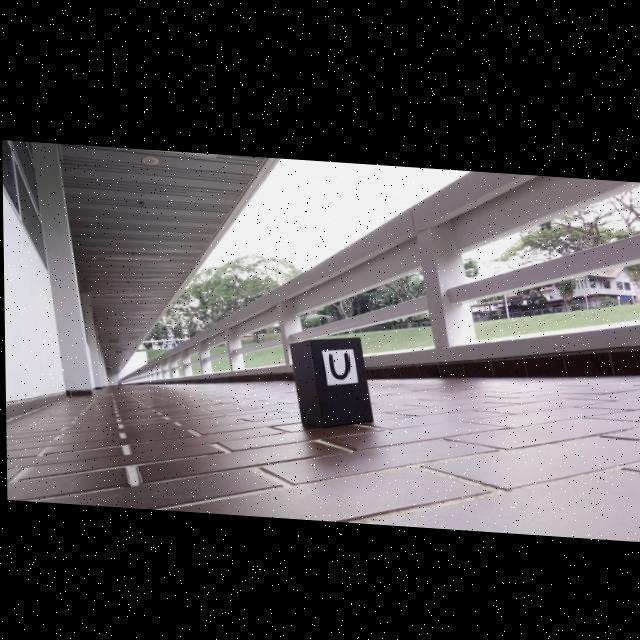U: (329, 349, 348, 375)
